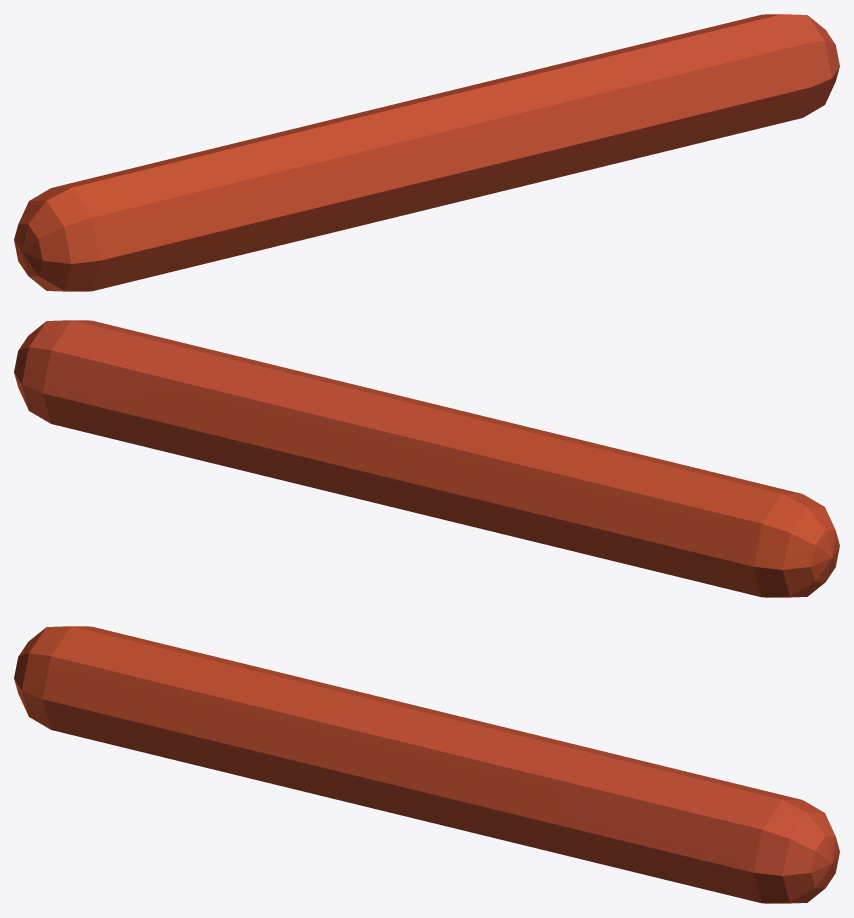
Rendered from Yard_HoseSegment.glb.
3 renders of one model, top to bottom at view 1: azimuth 30°, elevation 25°; view 2: azimuth 150°, elevation 25°; view 3: azimuth 330°, elevation 25°, orthographic.
Visible parts, largest first — view 1: Hose; view 2: Hose; view 3: Hose.
Part boxes in pixels (<box>): Hose: <box>14,14,839,291</box>; Hose: <box>14,320,839,597</box>; Hose: <box>14,626,839,903</box>.
Size of the model in its own units: 0.57 by 0.07 by 0.07.
